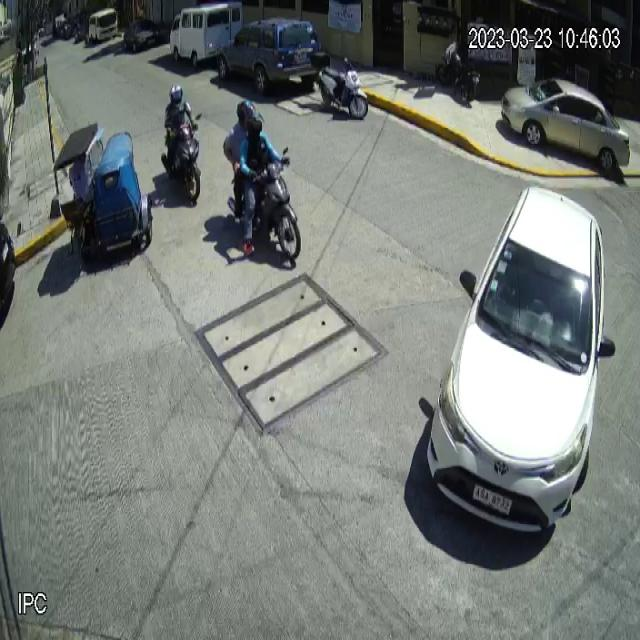Car: (425, 183, 606, 536), (499, 75, 632, 172), (216, 18, 320, 97)
Motorcycle: (310, 51, 369, 120)
Tricycle: (52, 122, 154, 260)
Van: (169, 0, 244, 69)
